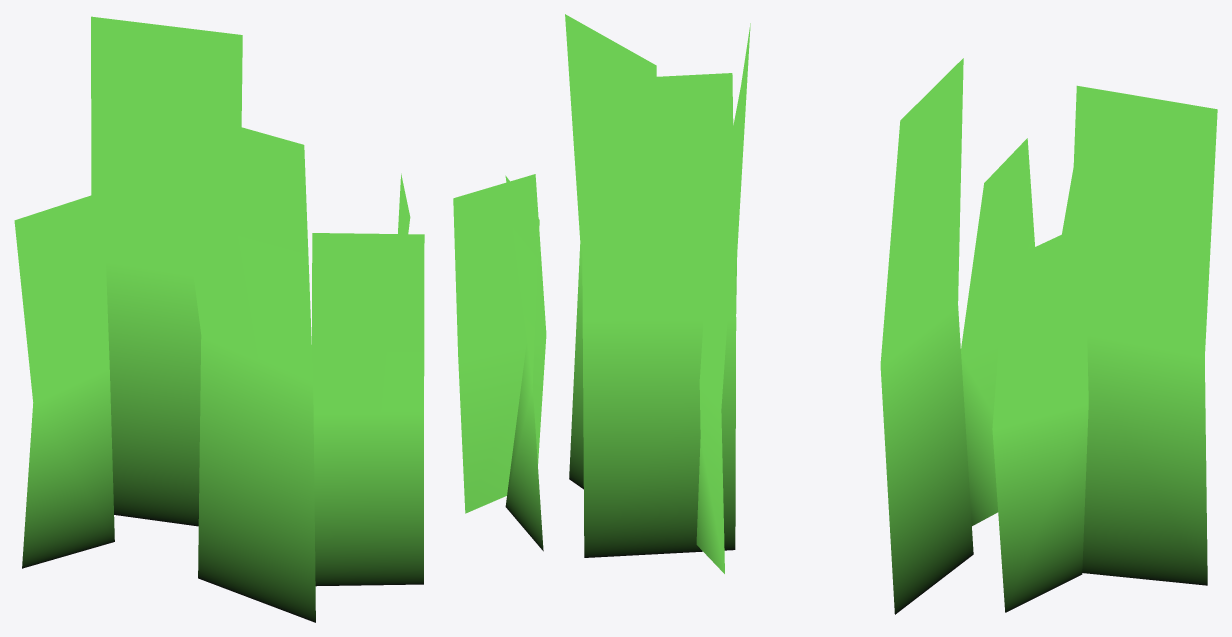
File: Foliage_Grass_Weeds_Grass1.glb
The picture shows the model from 3 angles, left to right: view 1: azimuth 30°, elevation 25°; view 2: azimuth 150°, elevation 25°; view 3: azimuth 270°, elevation 25°; orthographic projection. The views are drawn at different scales.
Visible parts, largest first — view 1: Grass1; view 2: Grass1; view 3: Grass1.
Boxes of the visible parts, left/top/right/bottom form: Grass1: left=14, top=16, right=424, bottom=622; Grass1: left=453, top=14, right=750, bottom=573; Grass1: left=880, top=58, right=1217, bottom=614.
Size of the model in its own units: 0.1461 by 0.1867 by 0.1365.
